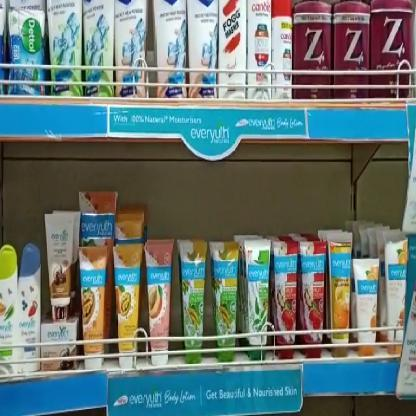EY AAAM TULSI TURMERIC FACEWASH50G: (179, 242, 208, 362), (216, 240, 238, 360)
EY ADVANCED GOLDEN GLOW PEEL OFF M- 50G: (326, 235, 352, 359)
EY EXF WALNUT SCRUB AYR 200G: (80, 244, 105, 374)
EY HYDR - EXF WALNUT APRICOT SCRUB 50G: (116, 244, 140, 370)
EY NAT GLOW ORANGE PEEL OFF AY 90G: (354, 261, 380, 357), (386, 240, 402, 358)
EY NATURALS NEEM FACE WASH AY 50G: (248, 240, 268, 354)
